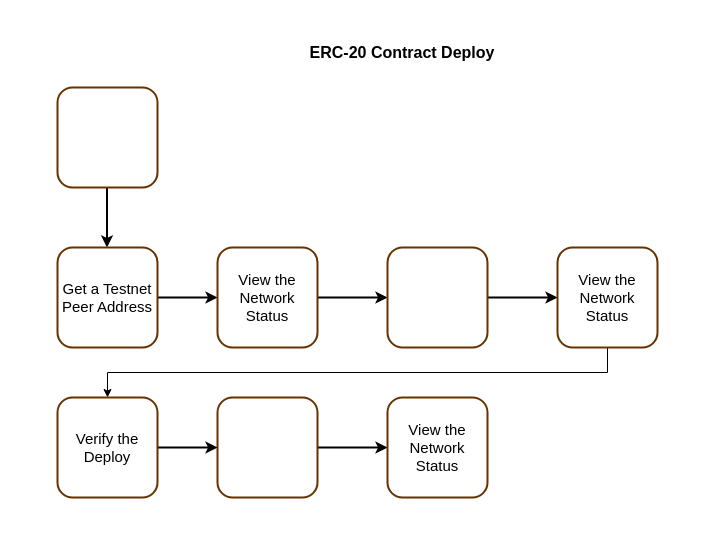
The diagram is 724 pixels wide and 534 high, and some of its shapes have lost their labels. Each missing label, with the centre of its shape:
Clone the ERC-20 Contract: (x=107, y=137)
Deploy the ERC-20 Contract to the Network: (x=437, y=297)
Query Contract Entry Points: (x=267, y=447)
